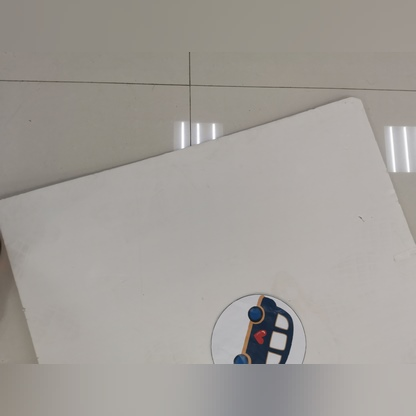car: (212, 292, 315, 371)
